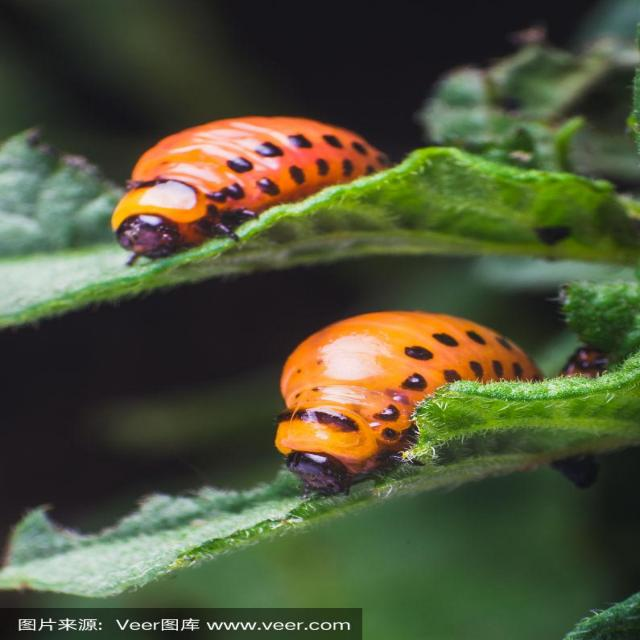ShuCaiHuaBanChong-Larva-: (58, 96, 460, 274), (252, 286, 578, 478)
